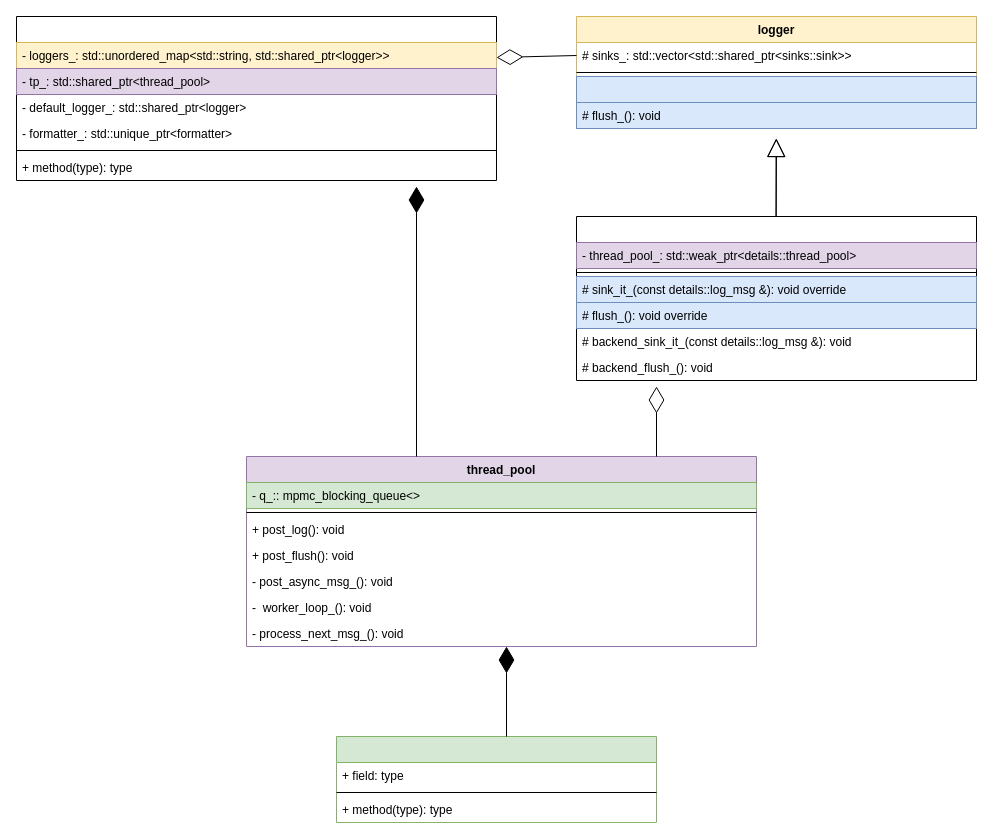
This 993x839 diagram has some shape labels left out. The box of each missing label's shape, as (x1, y1, x2, y2) in pixels:
# sink_it_(const details::log_msg &): void: (576, 76, 976, 102)
async_logger final: (576, 216, 976, 380)
mpmc_blocking_queue: (336, 736, 656, 822)
registry: (16, 16, 496, 180)
